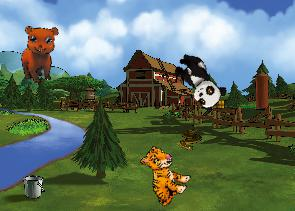bear: (17, 22, 65, 85)
panda: (167, 48, 230, 114)
tiger: (127, 142, 197, 210)
